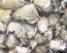3: (12, 4, 39, 23), (13, 21, 37, 39), (33, 0, 54, 12)
Oyster-Open: (0, 0, 25, 9), (49, 38, 66, 51), (5, 35, 18, 50), (38, 17, 49, 33), (48, 14, 60, 27), (0, 10, 12, 23), (34, 34, 46, 44), (15, 46, 32, 53), (34, 45, 48, 53), (61, 9, 67, 27), (45, 28, 53, 40), (28, 40, 37, 50), (0, 34, 6, 49), (20, 38, 29, 46), (0, 22, 6, 32)
